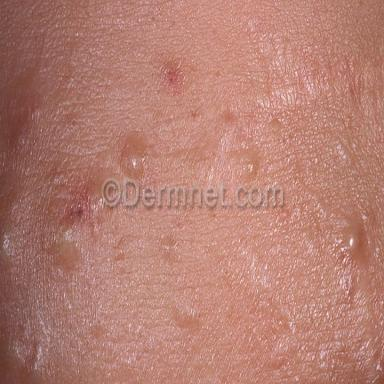acne: (52, 208, 83, 272), (343, 214, 369, 265), (11, 109, 41, 151), (120, 132, 147, 178), (159, 59, 184, 93), (241, 148, 259, 183), (161, 234, 175, 261), (0, 234, 14, 256)
